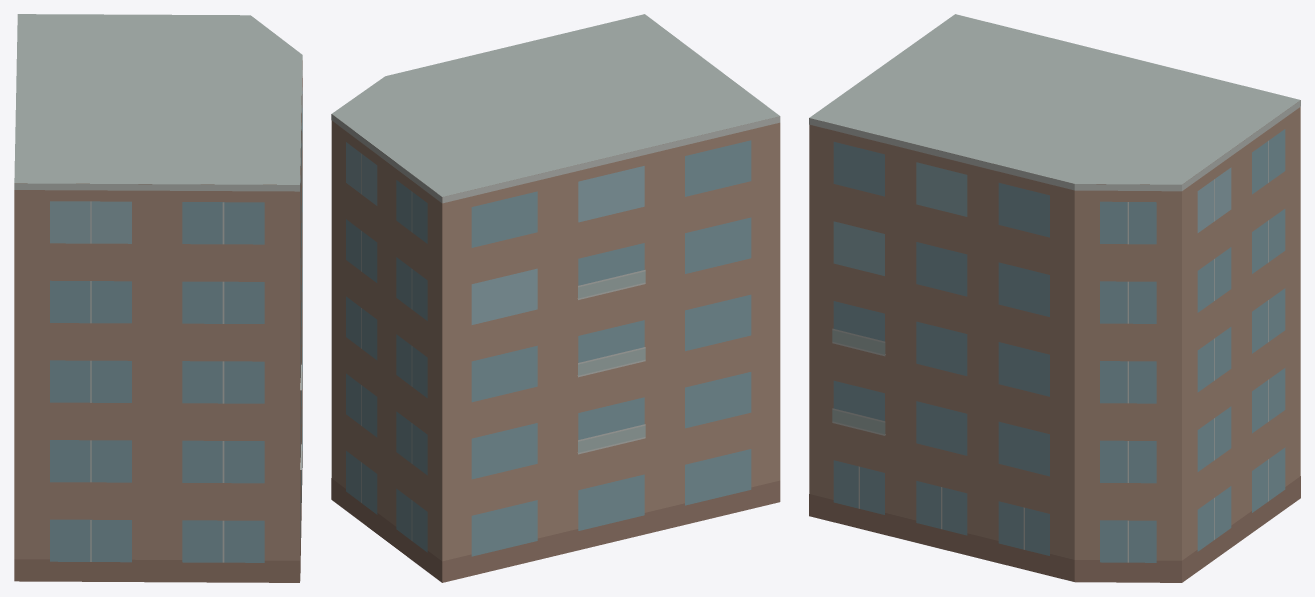
The model's file is survey-upis-32991937.glb.
The picture shows the model from 3 angles, left to right: view 1: azimuth 30°, elevation 25°; view 2: azimuth 150°, elevation 25°; view 3: azimuth 270°, elevation 25°; orthographic projection. The views are drawn at different scales.
Visible parts, largest first — view 1: survey-upis-32991937.tmp; view 2: survey-upis-32991937.tmp; view 3: survey-upis-32991937.tmp.
Part boxes in pixels (x1,y1,x2,y2): survey-upis-32991937.tmp: (14, 14, 302, 582); survey-upis-32991937.tmp: (331, 14, 780, 582); survey-upis-32991937.tmp: (809, 14, 1300, 582).
Bounding box in the file's own units: 13.52 × 14.7 × 16.46.
